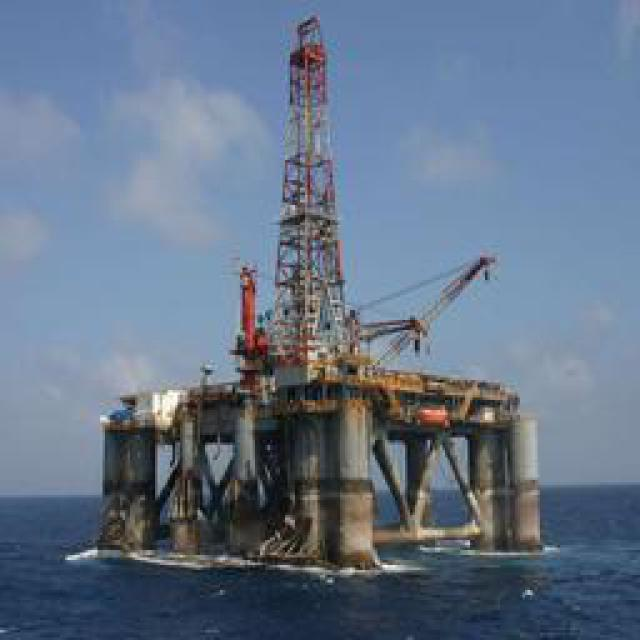Ship: (108, 19, 526, 562)
